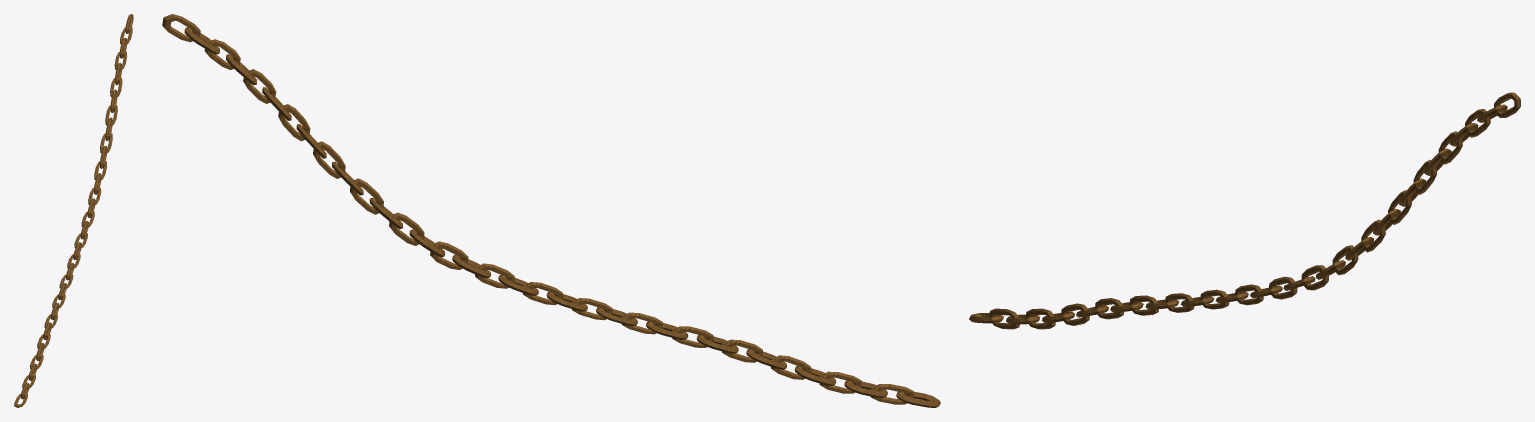
File: MOD_Chains.fbx
The picture shows the model from 3 angles, left to right: view 1: azimuth 30°, elevation 25°; view 2: azimuth 150°, elevation 25°; view 3: azimuth 270°, elevation 25°; orthographic projection. The views are drawn at different scales.
Visible parts, largest first — view 1: pTorus209; view 2: pTorus209; view 3: pTorus209.
Boxes of the visible parts, left/top/right/bottom form: pTorus209: left=14, top=14, right=133, bottom=407; pTorus209: left=162, top=14, right=940, bottom=407; pTorus209: left=969, top=92, right=1520, bottom=329.
Size of the model in its own units: 25.31 by 22.35 by 23.85.
